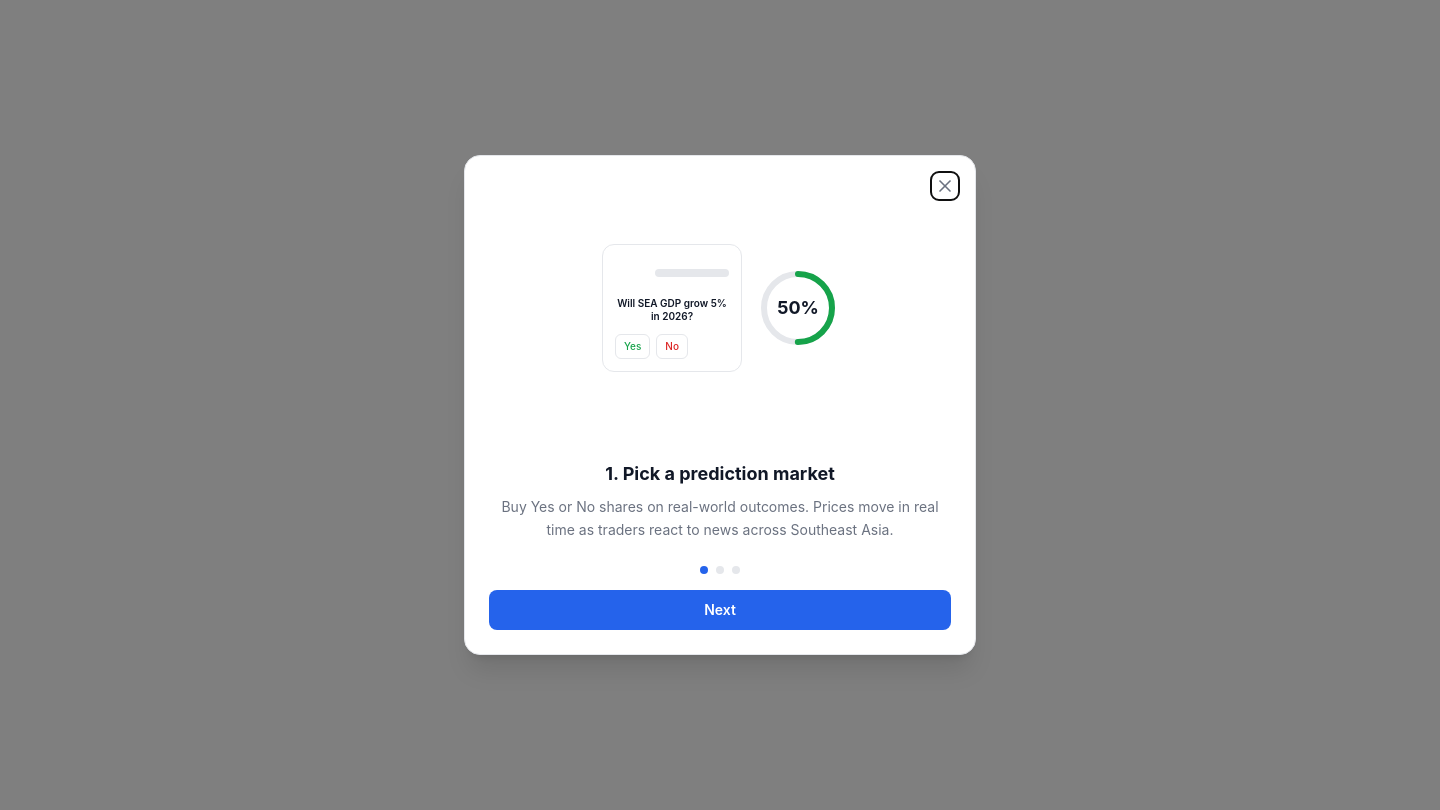
HowItWorksModal › renders step 1 and advances to step 2 on Next
This screenshot has width=1440, height=810.
Expected: the heading "1. Pick a prediction market" is shown, [605,463,835,484]
Click the button "Next": (720, 610) [489,590,951,630]
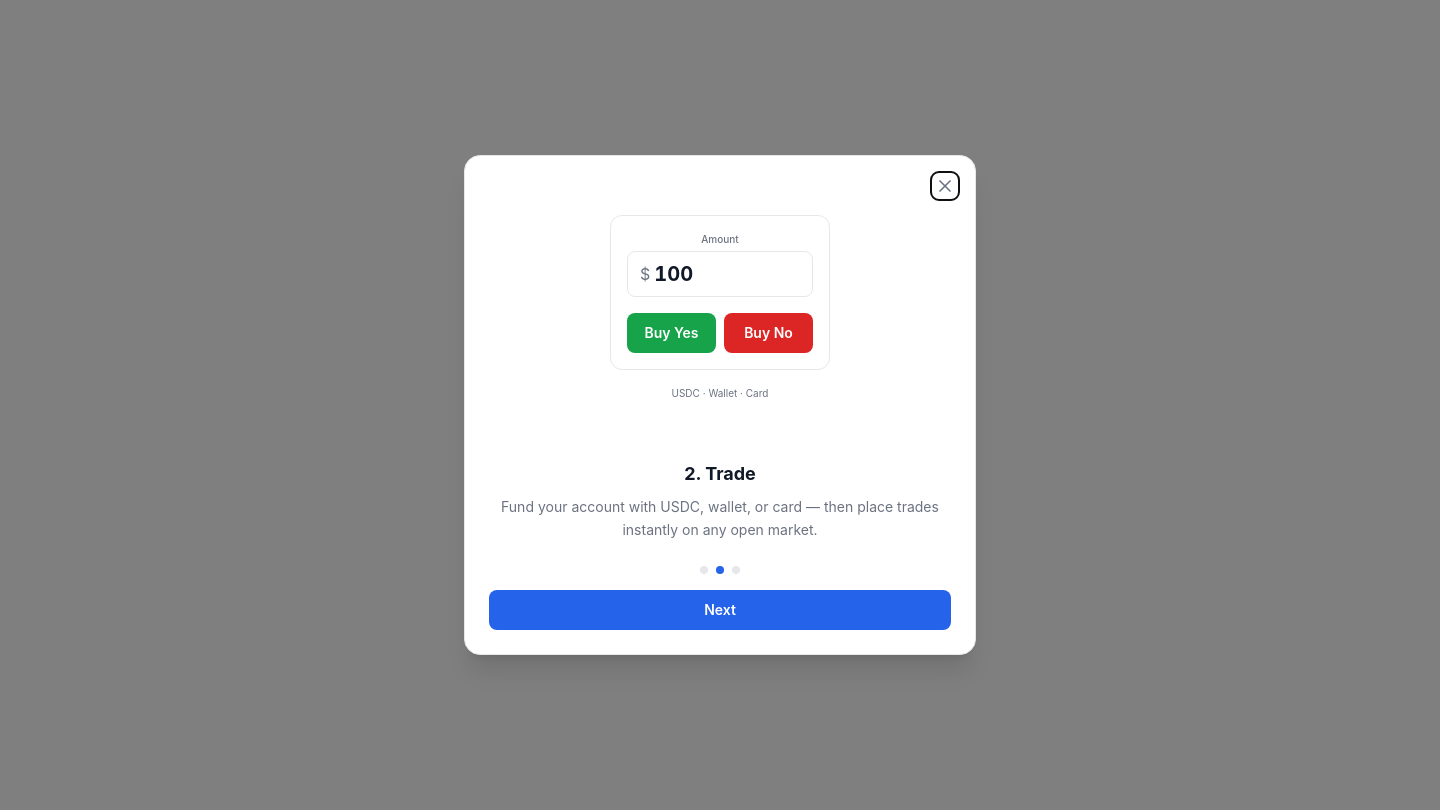
Now the heading "2. Trade" is shown, box [684,463,756,484]
